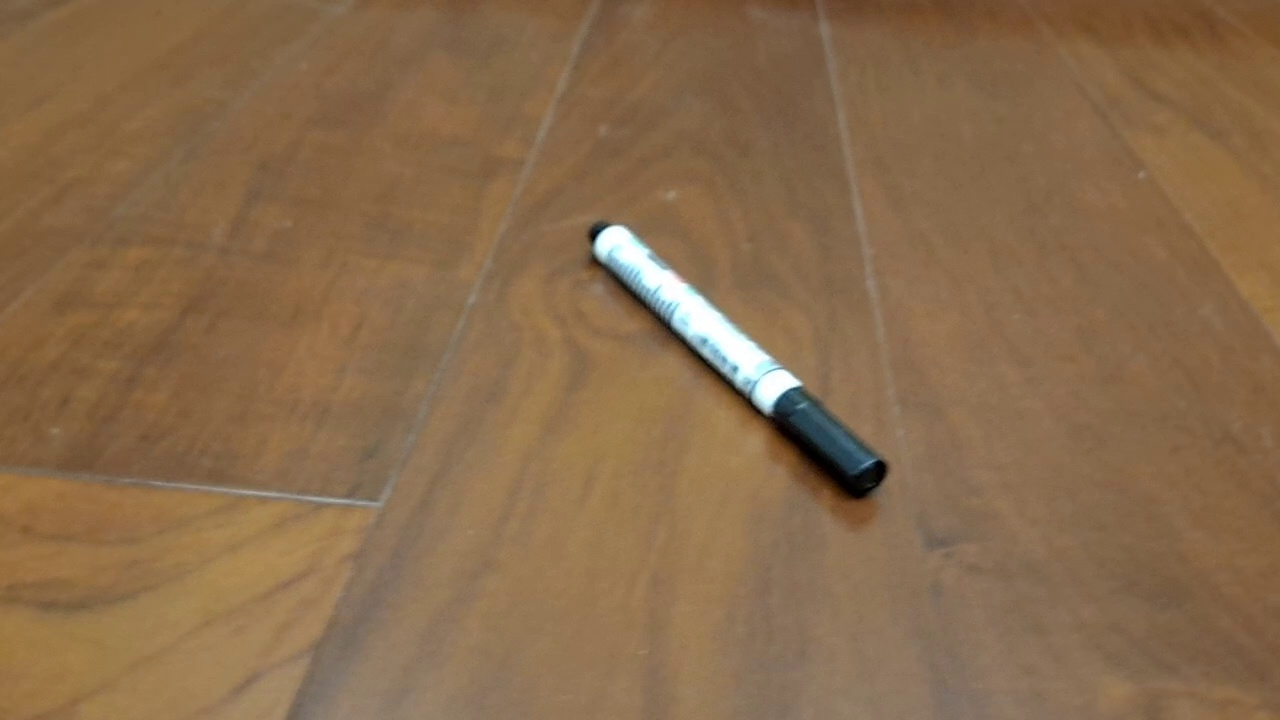pen: (587, 220, 891, 500)
